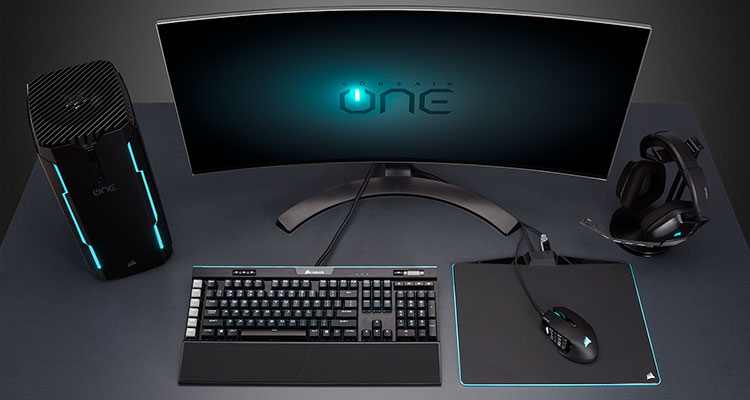Ordinateur: (507, 146, 653, 285)
